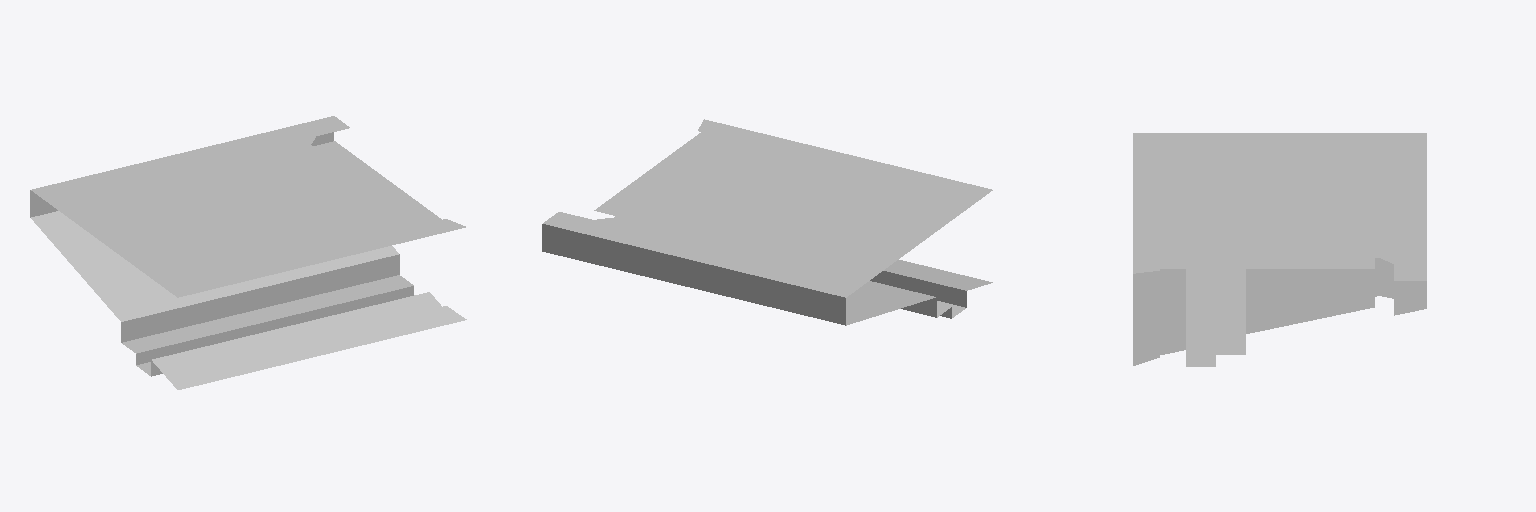
File: original-81.obj
3 views of the same model, side by side, from view 1: azimuth 30°, elevation 25°; view 2: azimuth 150°, elevation 25°; view 3: azimuth 270°, elevation 25° (orthographic).
Parts seen in each view (by area): view 1: CSCR/CSCR_3/ID494#ID494; view 2: CSCR/CSCR_3/ID494#ID494; view 3: CSCR/CSCR_3/ID494#ID494.
Part boxes in pixels (x1,y1,x2,y2): CSCR/CSCR_3/ID494#ID494: (30,116,466,389); CSCR/CSCR_3/ID494#ID494: (542,119,992,325); CSCR/CSCR_3/ID494#ID494: (1133,133,1426,366).
Bounding box in the file's own units: 0.1115 × 0.0345 × 0.0937.